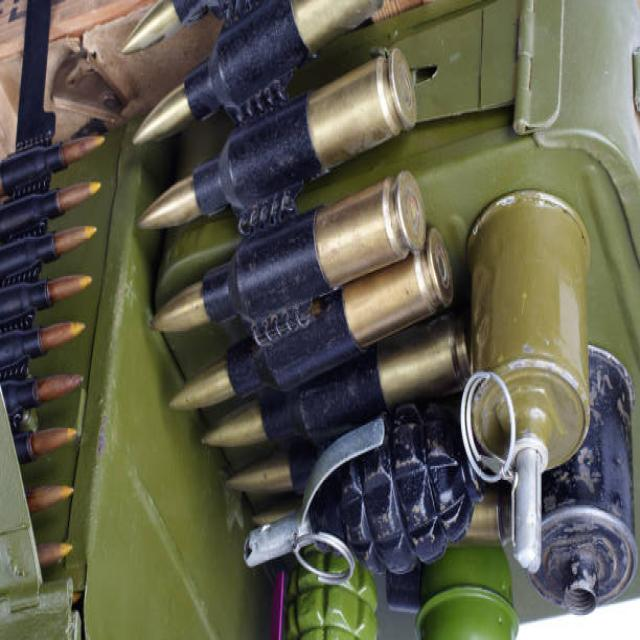grenade: (243, 408, 493, 592)
